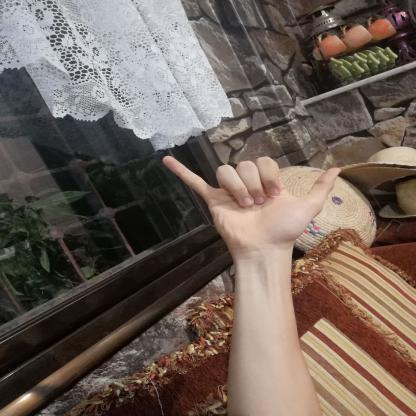YA: (148, 147, 359, 262)
